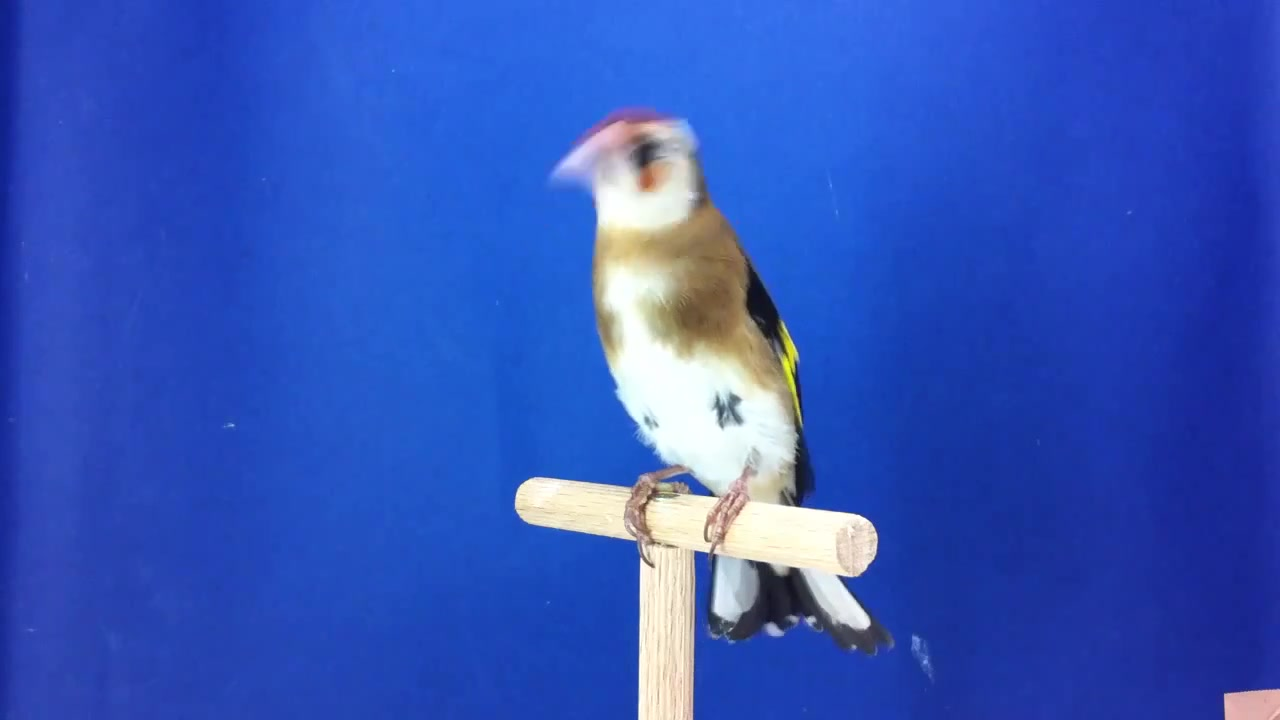bird: (549, 118, 894, 656)
